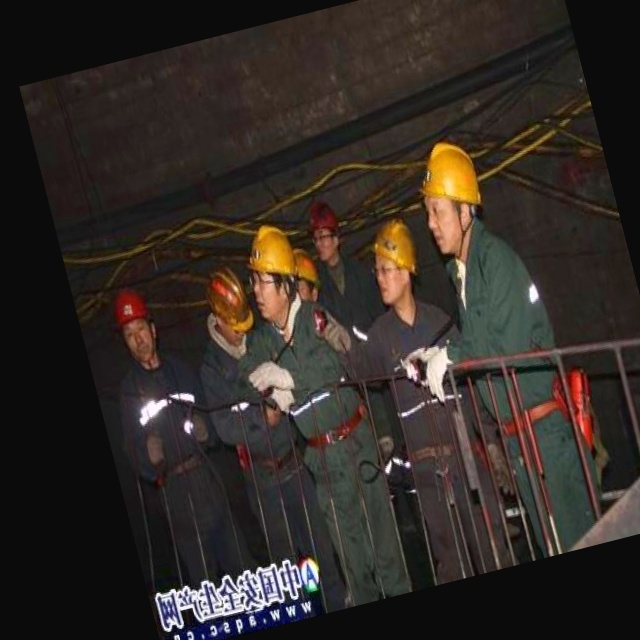Con_Casco: (408, 133, 490, 254), (365, 218, 426, 305)
